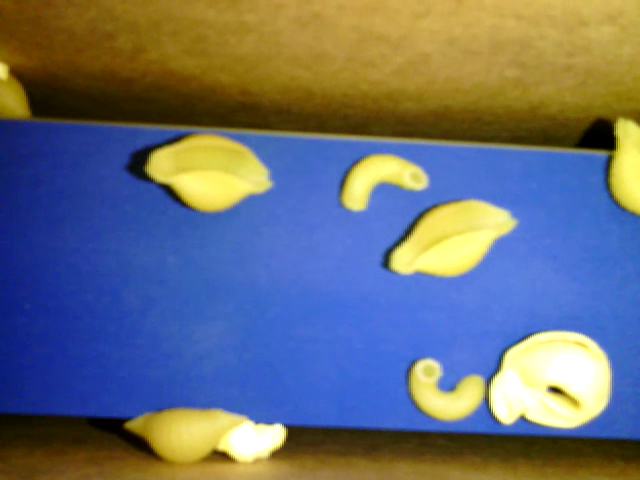elbow: (342, 152, 429, 215), (407, 357, 486, 420)
shell: (385, 198, 519, 284), (146, 130, 276, 216), (122, 409, 249, 464), (607, 115, 637, 217), (2, 70, 35, 122)
tortellini: (487, 329, 612, 432)
